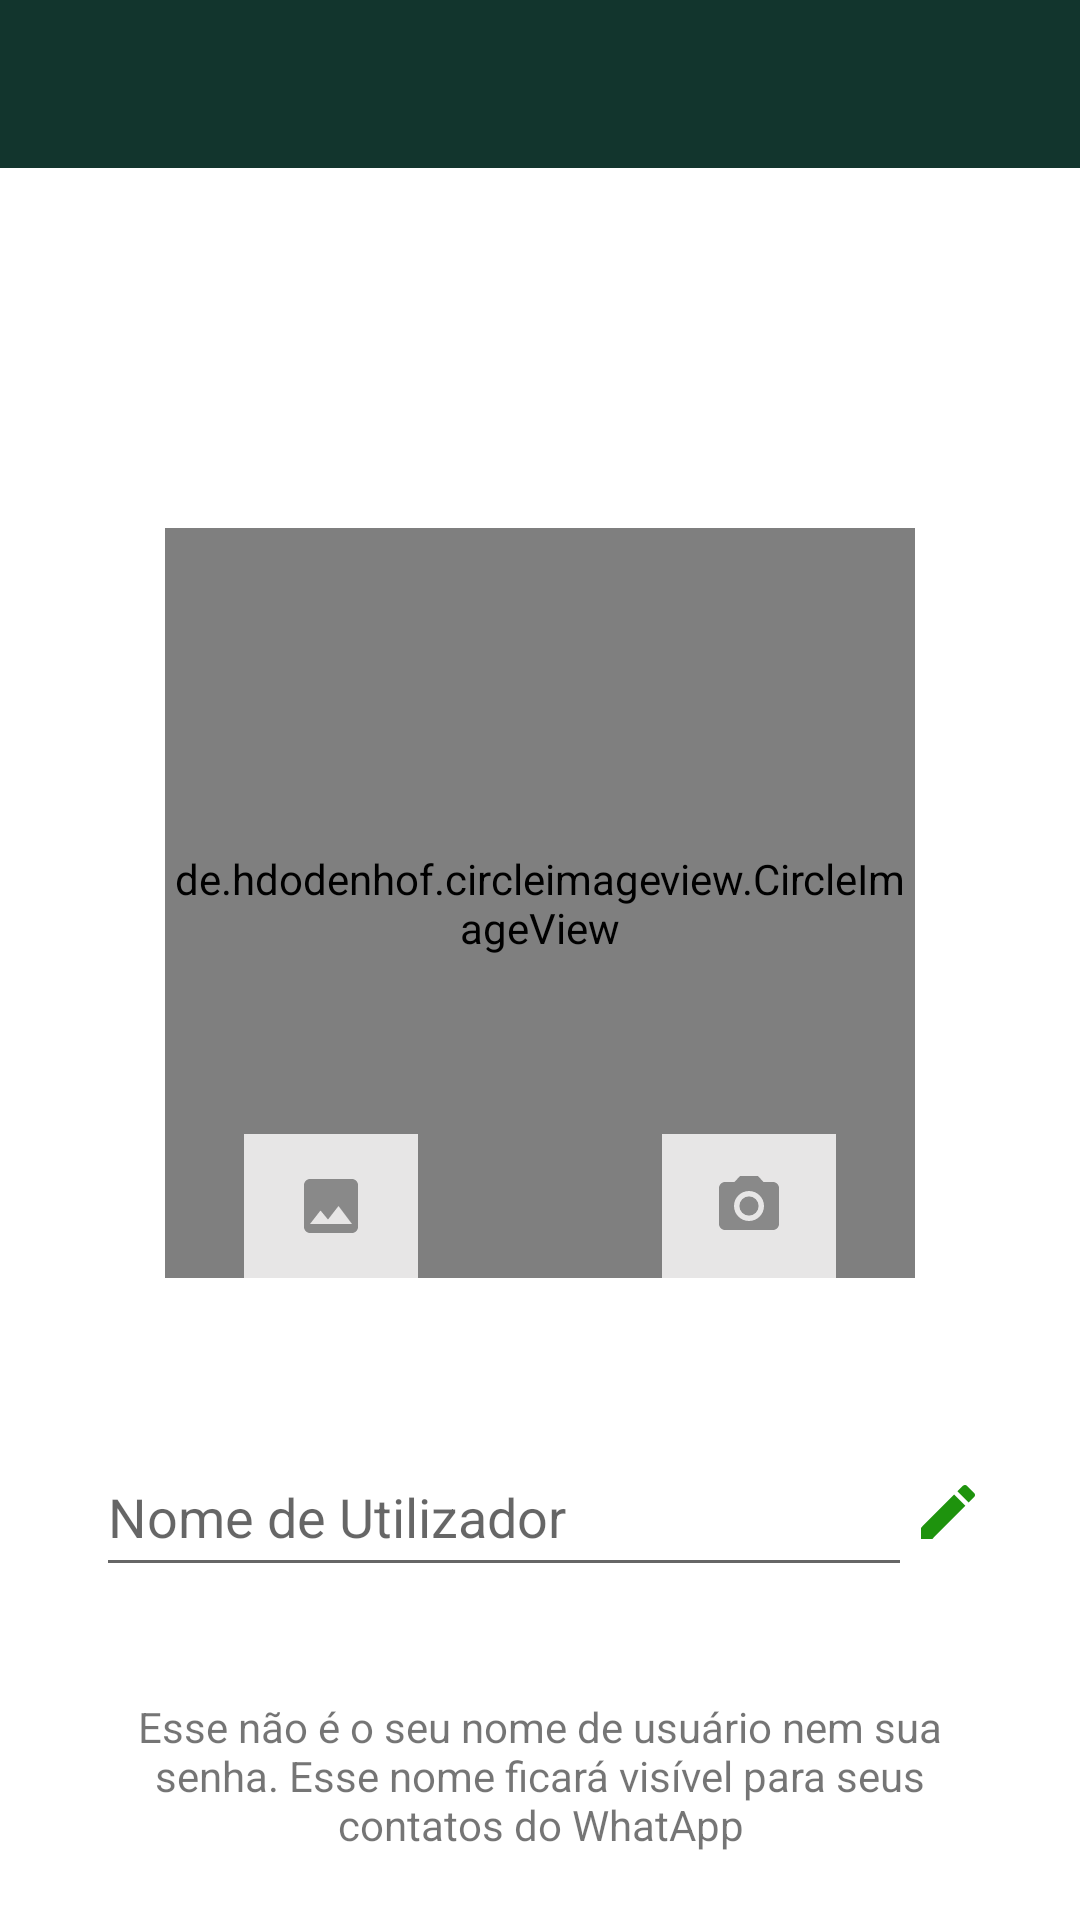

Icon bounding boxes for this 1080x1920 phone screenshot, format BBox(x1, y1, x2, y2):
camera: BBox(662, 1134, 836, 1278)
edit verde: BBox(921, 1485, 975, 1539)
insert photo: BBox(244, 1134, 418, 1278)
